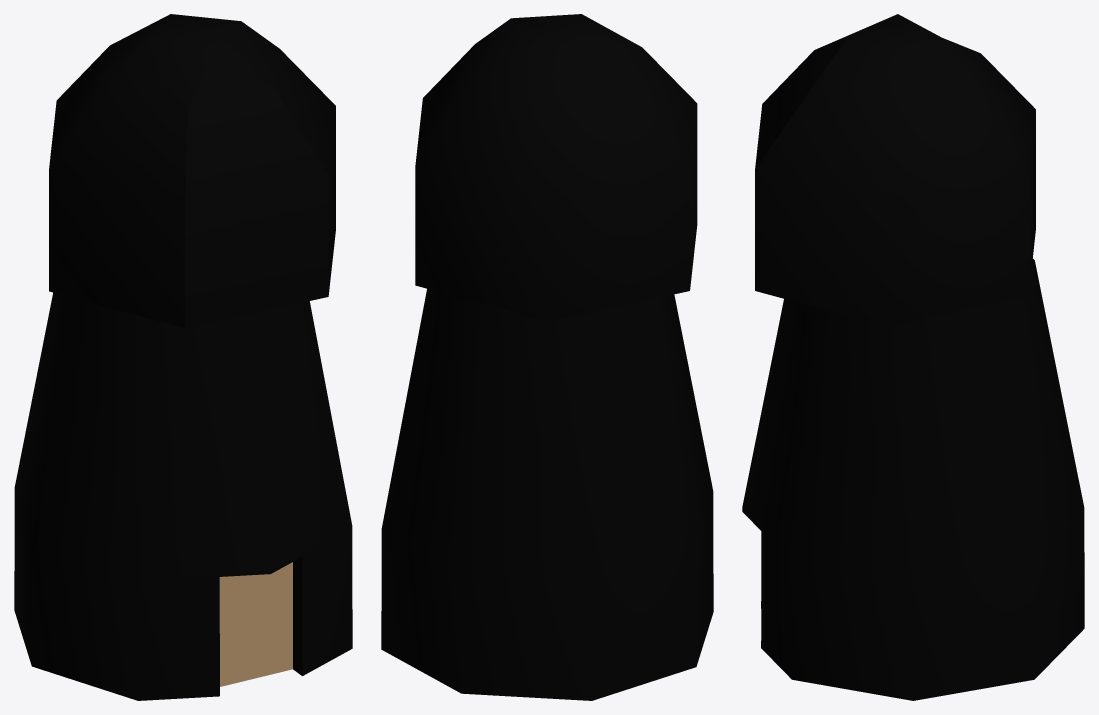
The model's file is Mill.fbx.
3 views of the same model, side by side, from view 1: azimuth 30°, elevation 25°; view 2: azimuth 150°, elevation 25°; view 3: azimuth 270°, elevation 25° (orthographic). The views are drawn at different scales.
Visible parts, largest first — view 1: Mill; view 2: Mill; view 3: Mill.
Part boxes in pixels (<box>): Mill: <box>14,14,352,700</box>; Mill: <box>381,14,713,700</box>; Mill: <box>742,14,1084,700</box>.
Bounding box in the file's own units: 556 × 1058 × 555.
